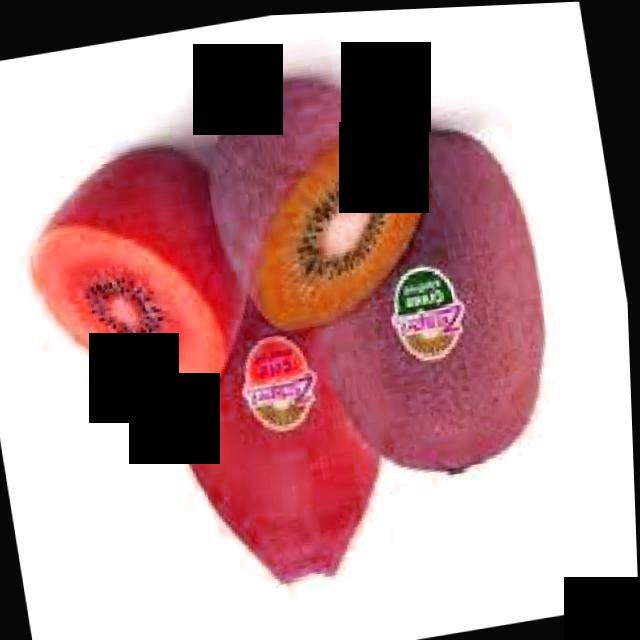kiwi: (307, 111, 576, 495), (157, 294, 389, 603)
